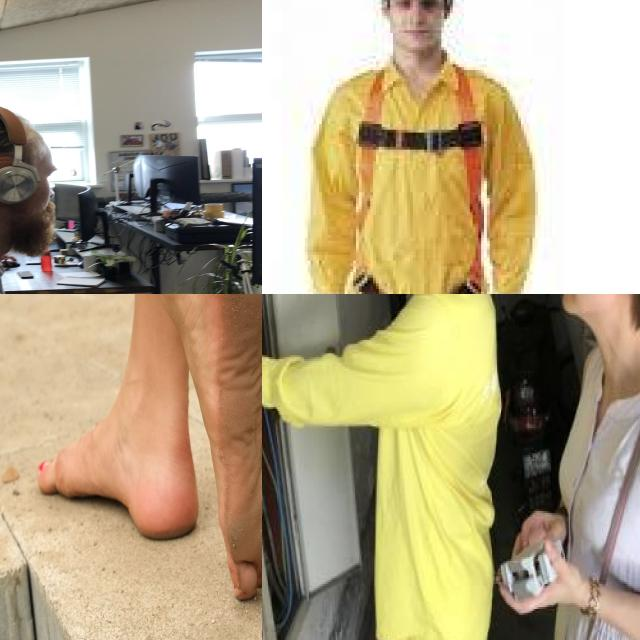Barefoots: (38, 420, 198, 541), (210, 294, 262, 601)
Ear-protection: (0, 99, 70, 264)
Harness: (352, 64, 485, 294)
face_nomask: (562, 294, 600, 317)
hand_noglove: (500, 541, 590, 613), (512, 511, 566, 557)
